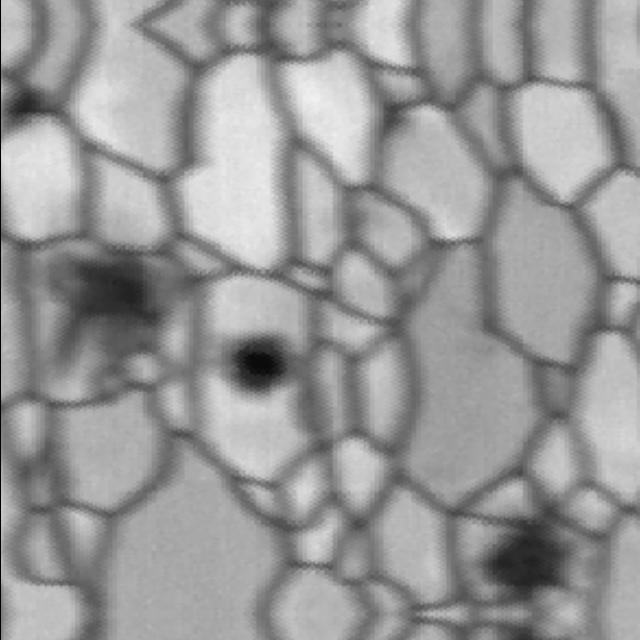good_void: (10, 241, 195, 427), (455, 498, 591, 626), (215, 329, 296, 411), (0, 71, 64, 149), (361, 91, 418, 149)
